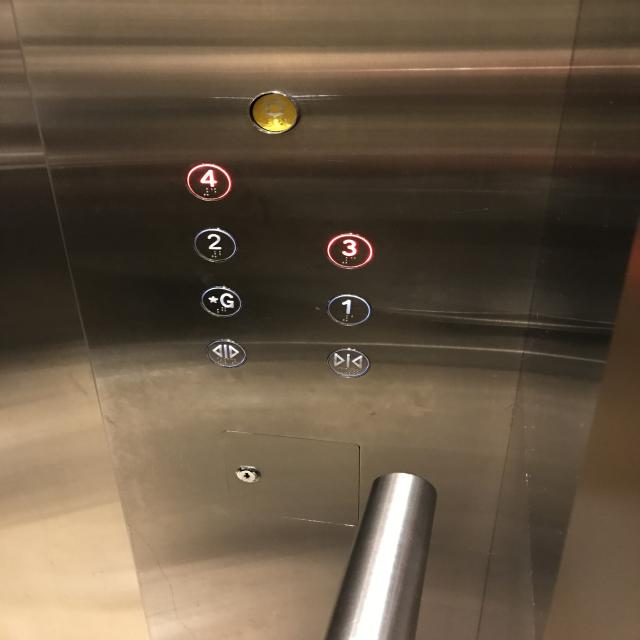1: (324, 292, 373, 328)
2: (190, 225, 240, 264)
3: (322, 230, 376, 270)
4: (182, 160, 234, 202)
alarm: (244, 88, 304, 136)
close: (324, 346, 372, 380)
open: (204, 337, 248, 369)
sG: (197, 283, 244, 319)
